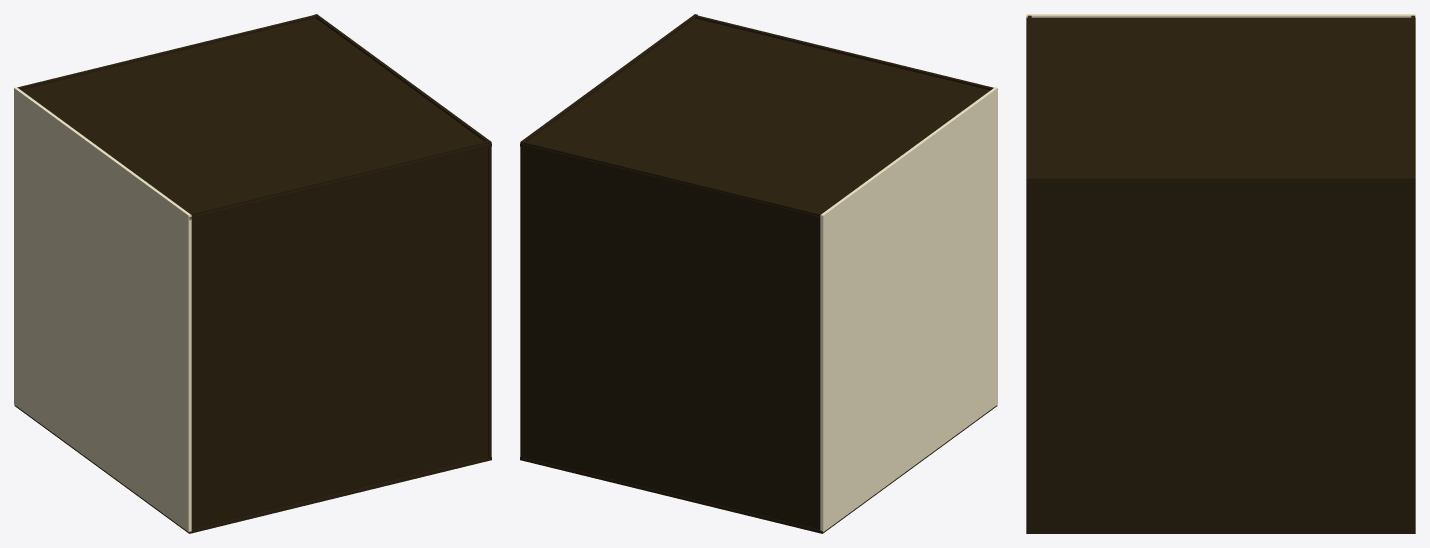
File: box room.fbx
3 renders of one model, left to right at view 1: azimuth 30°, elevation 25°; view 2: azimuth 150°, elevation 25°; view 3: azimuth 270°, elevation 25°, orthographic. The views are drawn at different scales.
Parts seen in each view (by area): view 1: floor.004, floor.001, floor.005, floor.002, floor, floor.003; view 2: floor.003, floor.001, floor.005, floor.002, floor, floor.004; view 3: floor.002, floor.005, floor, floor.001, floor.003, floor.004.
Part boxes in pixels (x1,y1,x2,y2): floor.004: (189, 140, 489, 529); floor.001: (14, 87, 191, 531); floor.005: (21, 18, 491, 219); floor.002: (314, 14, 491, 458); floor: (14, 405, 491, 533); floor.003: (17, 14, 318, 89); floor.003: (521, 140, 821, 529); floor.001: (820, 87, 997, 531); floor.005: (520, 18, 989, 219); floor.002: (520, 14, 697, 457); floor: (520, 405, 997, 533); floor.004: (693, 14, 993, 90); floor.002: (1026, 177, 1415, 530); floor.005: (1026, 17, 1415, 184); floor: (1026, 530, 1415, 533); floor.001: (1026, 14, 1415, 17); floor.003: (1411, 15, 1414, 178); floor.004: (1028, 15, 1031, 178).
Size of the model in its own units: 1636 by 1642 by 1633.
